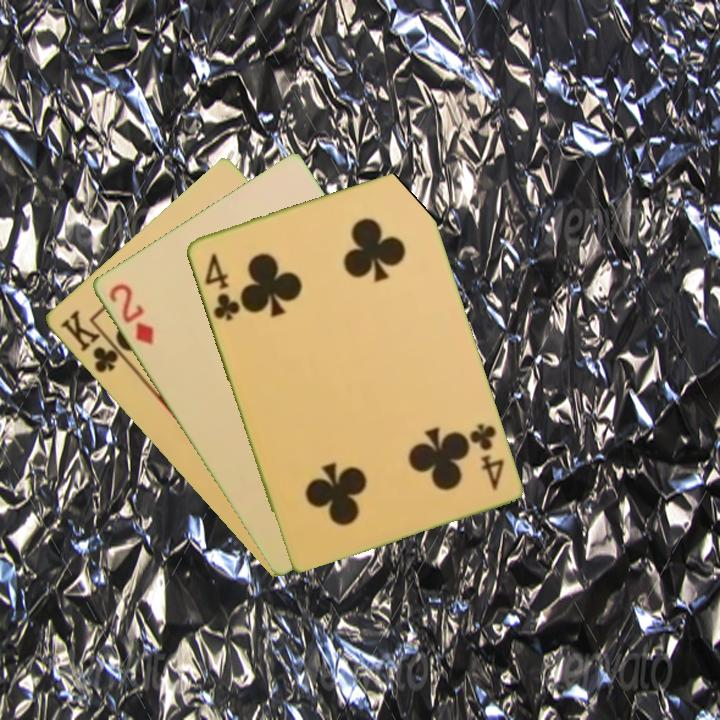2d: (105, 279, 156, 348)
4c: (200, 250, 243, 324), (465, 419, 507, 493)
Kc: (56, 306, 130, 376)
